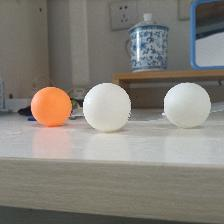WhiteBall: (82, 82, 130, 132), (163, 82, 211, 128)
YellowBall: (30, 87, 71, 126)
